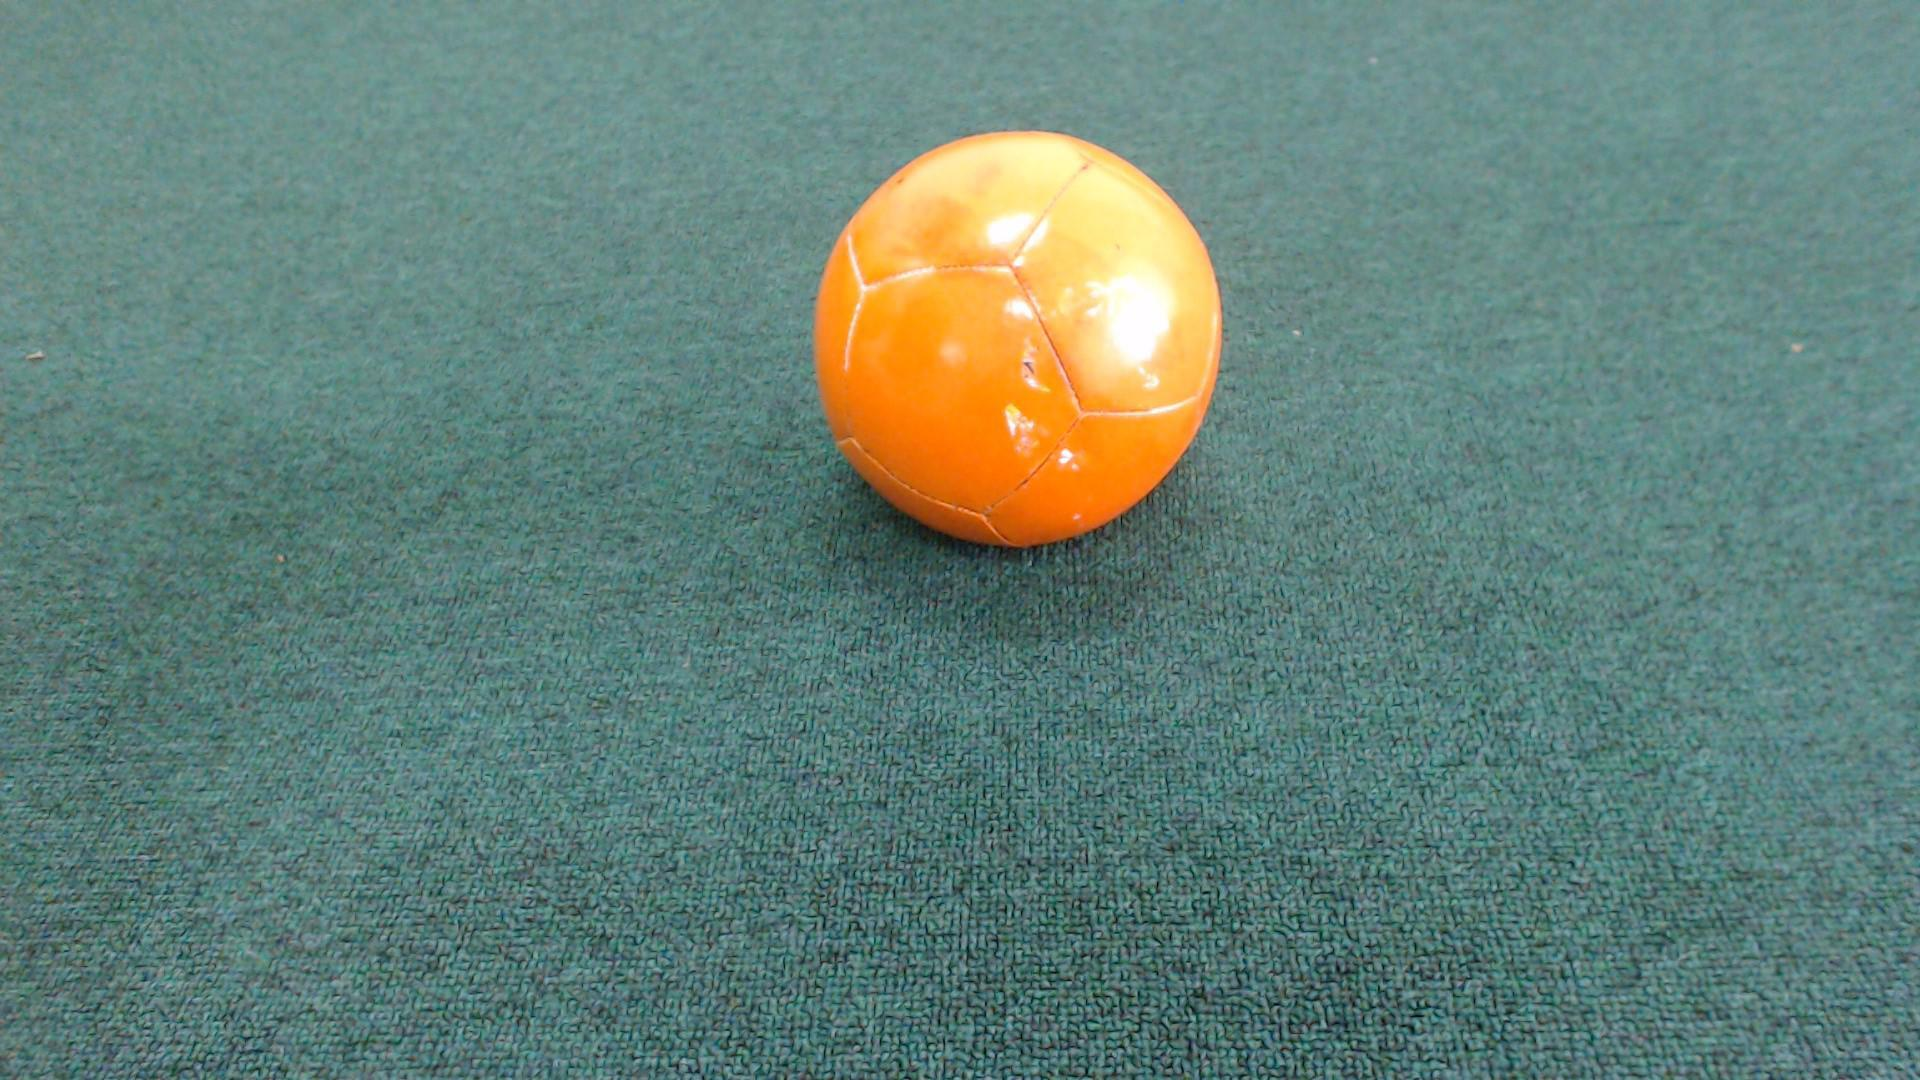bola: (786, 116, 1229, 550)
